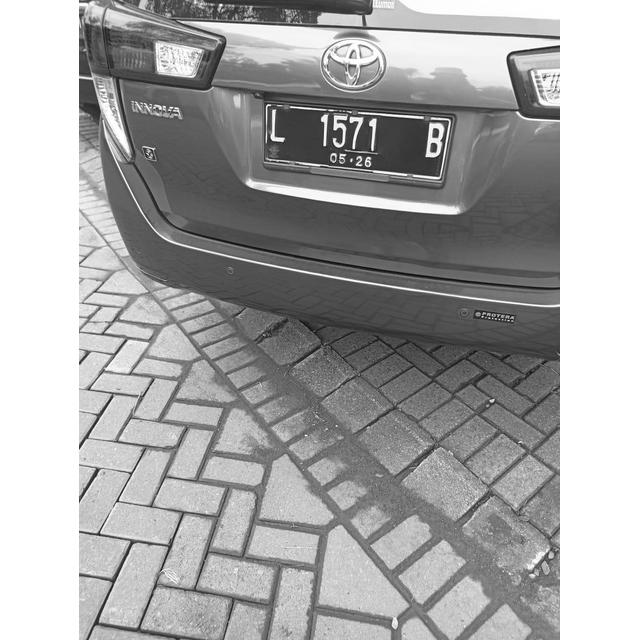license: (269, 106, 446, 171)
